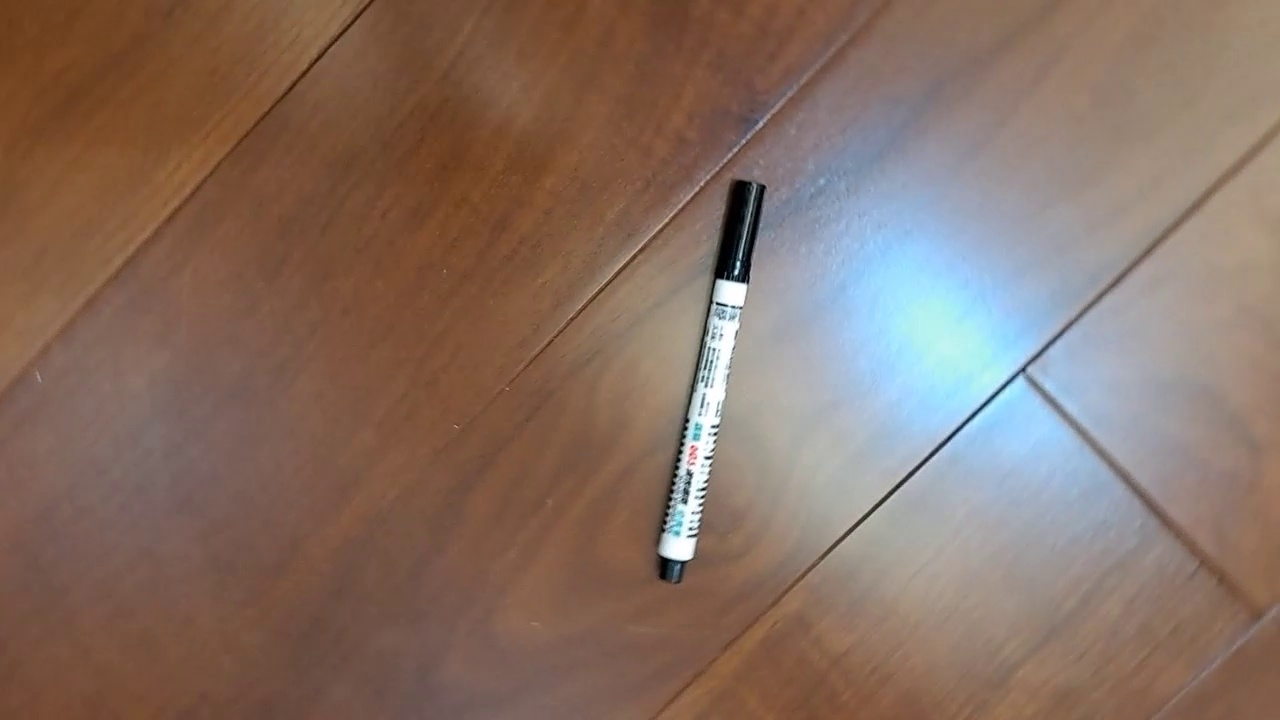pen: (655, 177, 768, 585)
